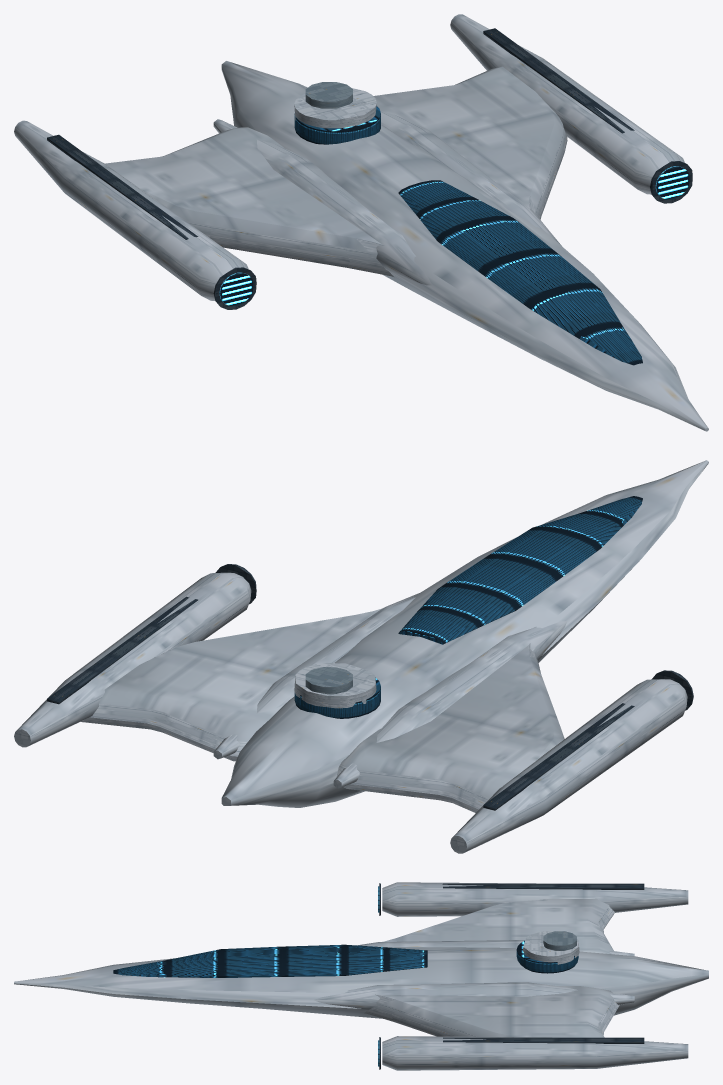
The model's file is alliance_courier_recreated_dock_probe_lod1.glb.
3 views of the same model, one above another, from view 1: azimuth 30°, elevation 25°; view 2: azimuth 150°, elevation 25°; view 3: azimuth 270°, elevation 25° (orthographic). The views are drawn at different scales.
Parts seen in each view (by area): view 1: alliance_courier_lod_source; view 2: alliance_courier_lod_source; view 3: alliance_courier_lod_source.
Part boxes in pixels (x1,y1,x2,y2): alliance_courier_lod_source: [14, 14, 708, 431]; alliance_courier_lod_source: [14, 460, 708, 853]; alliance_courier_lod_source: [14, 882, 708, 1070].
Size of the model in its own units: 1.11 by 0.2534 by 1.89.
Materials: 1 (1 with a texture image).
